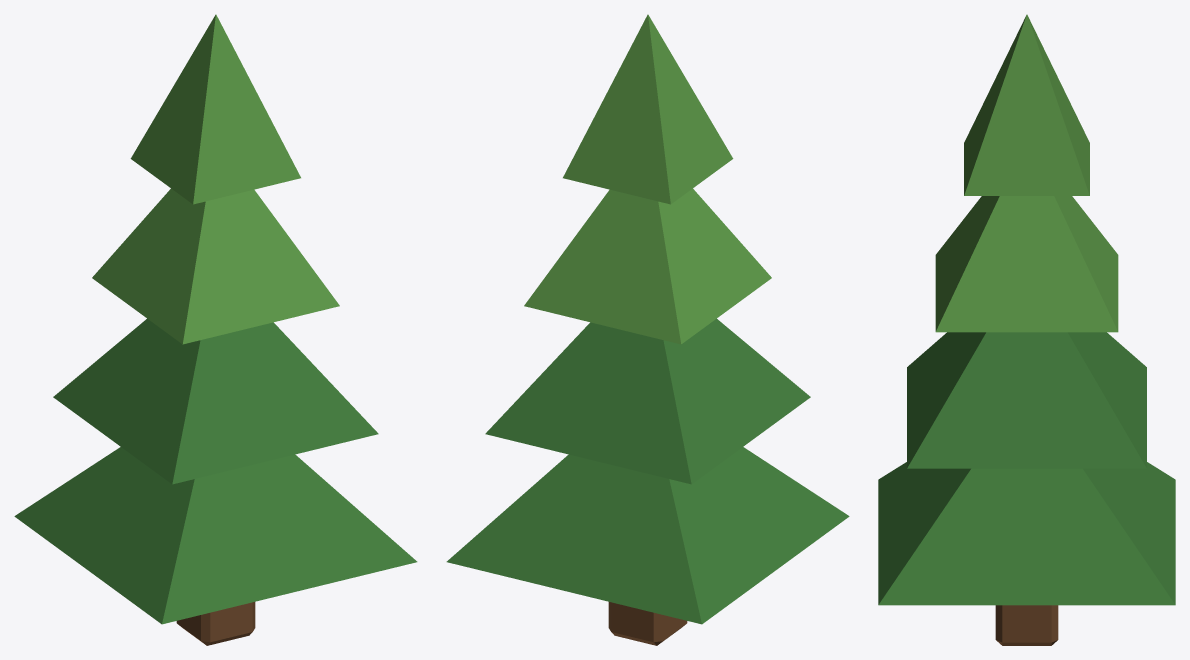
The model's file is env_r1_tree_pine.glb.
The picture shows the model from 3 angles, left to right: view 1: azimuth 30°, elevation 25°; view 2: azimuth 150°, elevation 25°; view 3: azimuth 270°, elevation 25°; orthographic projection.
Parts seen in each view (by area): view 1: env_r1_tree_pine; view 2: env_r1_tree_pine; view 3: env_r1_tree_pine.
Boxes of the visible parts, x1,y1,x2,y2 form: env_r1_tree_pine: [14, 14, 417, 645]; env_r1_tree_pine: [446, 14, 849, 645]; env_r1_tree_pine: [878, 14, 1175, 645].
Bounding box in the file's own units: 2.6 × 6 × 2.6.
Materials: 1 (1 with a texture image).
